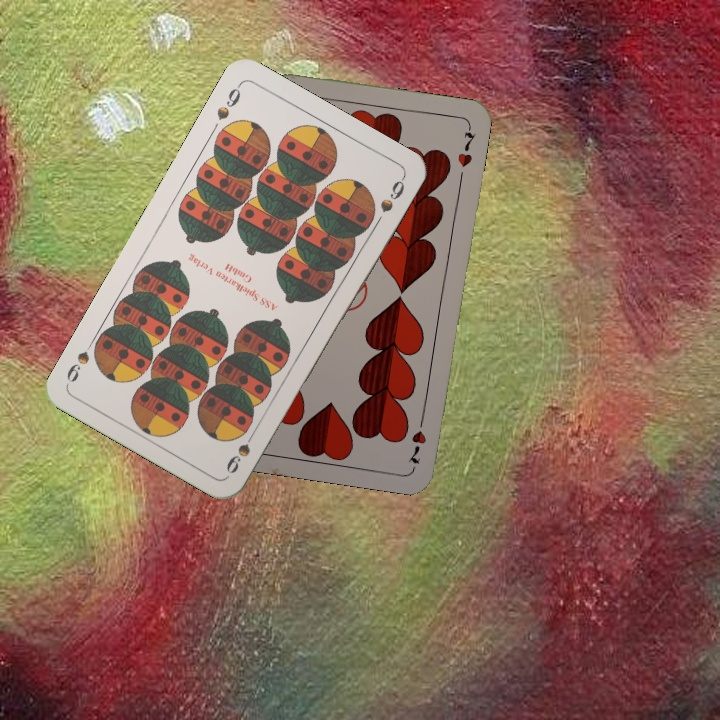H7: (405, 410, 429, 467)
S9: (222, 423, 260, 477), (212, 80, 244, 123)
